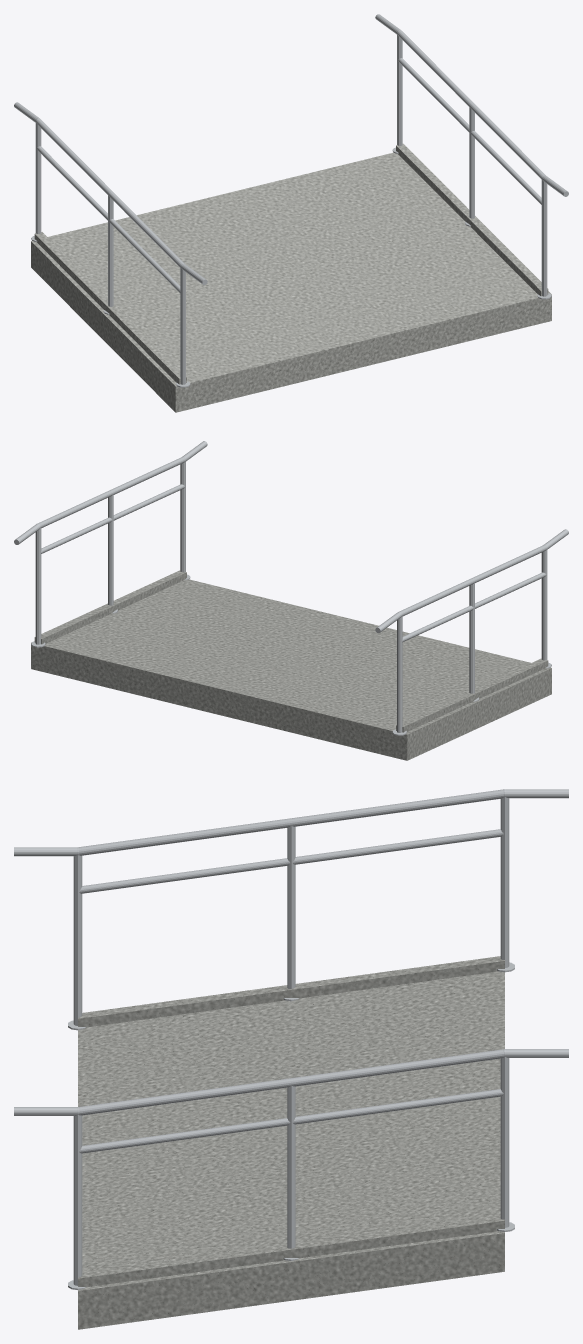
3 renders of one model, top to bottom at view 1: azimuth 30°, elevation 25°; view 2: azimuth 150°, elevation 25°; view 3: azimuth 270°, elevation 25°, orthographic. The views are drawn at different scales.
Parts seen in each view (by area): view 1: level.ramp (×2); view 2: level.ramp (×2); view 3: level.ramp (×2).
Part boxes in pixels (<box>): level.ramp (×2): <box>14,14,568,412</box>; level.ramp (×2): <box>14,441,568,760</box>; level.ramp (×2): <box>14,789,568,1329</box>.
Size of the model in its own units: 3 by 2.6 by 1.42.
Materials: 2 (1 with a texture image).
